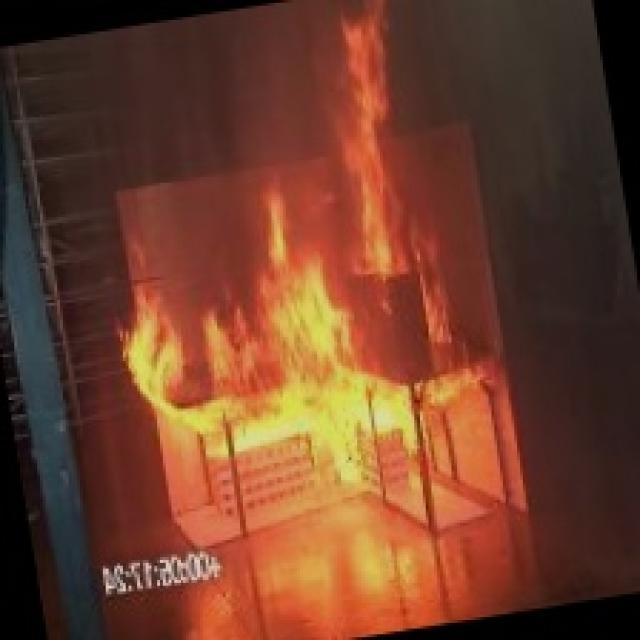fire: (74, 0, 552, 549)
